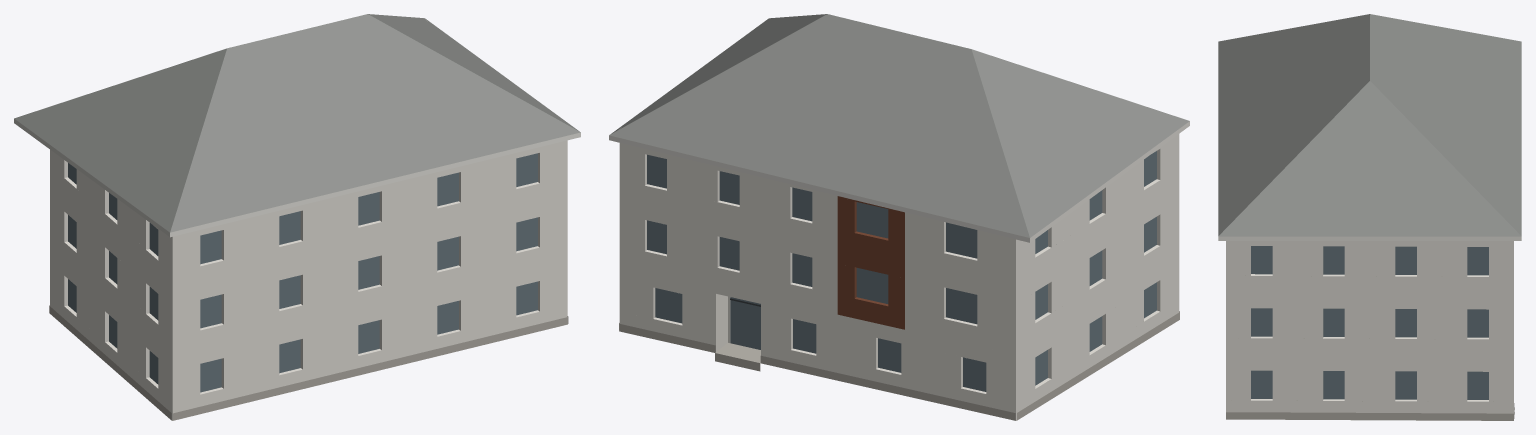
The picture shows the model from 3 angles, left to right: view 1: azimuth 30°, elevation 25°; view 2: azimuth 150°, elevation 25°; view 3: azimuth 270°, elevation 25°; orthographic projection. The views are drawn at different scales.
Visible parts, largest first — view 1: unk8232__wall, unk8232__roofAccent, unk8232__glass, unk8232__base, unk8232__trim; view 2: unk8232__wall, unk8232__roofAccent, unk8232__glass, unk8232__wall2, unk8232__base, unk8232__trim; view 3: unk8232__roofAccent, unk8232__wall, unk8232__glass, unk8232__base, unk8232__trim.
Boxes of the visible parts, x1,y1,x2,y2 form: unk8232__wall: (50, 140, 567, 420); unk8232__roofAccent: (14, 14, 580, 232); unk8232__glass: (68, 153, 537, 392); unk8232__base: (49, 305, 568, 420); unk8232__trim: (14, 118, 580, 237); unk8232__wall: (619, 134, 1179, 420); unk8232__roofAccent: (609, 14, 1189, 237); unk8232__glass: (647, 151, 1156, 391); unk8232__wall2: (837, 196, 904, 329); unk8232__base: (619, 311, 1179, 420); unk8232__trim: (609, 121, 1189, 242); unk8232__roofAccent: (1218, 14, 1521, 236); unk8232__wall: (1226, 241, 1513, 413); unk8232__glass: (1251, 246, 1488, 399); unk8232__base: (1226, 403, 1514, 420); unk8232__trim: (1218, 236, 1521, 240).
Size of the model in its own units: 22.8 by 15.6 by 15.
